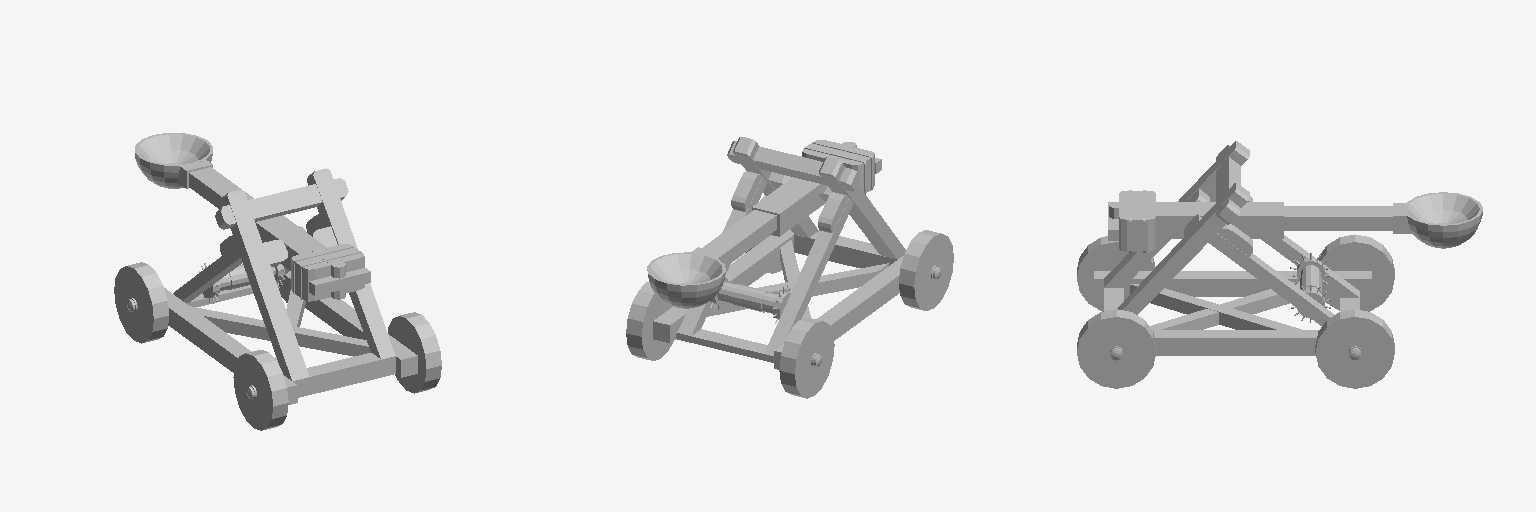
Rendered from Catapuly.obj.
3 renders of one model, left to right at view 1: azimuth 30°, elevation 25°; view 2: azimuth 150°, elevation 25°; view 3: azimuth 270°, elevation 25°, orthographic.
Visible parts, largest first — view 1: CatapultStandLeftFront, WheelLeftBack, WheelLeftFront, CatapultStandRightFront, CatapultHeadHolder, CatapultHead, CatapultBaseLeft, WheelRightFront, CatapultBottom1, CatapultBaseFront, CatapultBaseRight, CatapultBlock (+6 smaller); view 2: CatapultHeadHolder, CatapultHead, WheelLeftFront, WheelLeftBack, CatapultStandLeftBack, CatapultBaseLeft, CatapultBaseRight, CatapultStandLeftFront, WheelRightBack, CatapultBlock, CatapultBottom2, CatapultBaseFront (+8 smaller); view 3: CatapultHeadHolder, WheelRightBack, WheelRightFront, CatapultBaseRight, CatapultBaseLeft, CatapultHead, CatapultStandRightFront, WheelLeftBack, CatapultStandRightBack, CatapultStandLeftFront, CatapultBottom2, WheelLeftFront (+6 smaller).
Part boxes in pixels (x1,y1,x2,y2): CatapultStandLeftFront: (221,189,309,380); WheelLeftBack: (114,262,168,343); WheelLeftFront: (233,350,288,430); CatapultStandRightFront: (307,168,395,359); CatapultHeadHolder: (177,160,326,270); CatapultHead: (135,133,212,188); CatapultBaseLeft: (164,288,297,404); WheelRightFront: (388,312,441,393); CatapultBottom1: (190,306,370,356); CatapultBaseFront: (293,353,395,397); CatapultBaseRight: (278,271,417,377); CatapultBlock: (215,178,348,229); CatapultHeadHolder: (692,177,825,266); CatapultHead: (647,252,725,308); WheelLeftFront: (899,230,953,310); WheelLeftBack: (779,317,834,398); CatapultStandLeftBack: (764,198,853,355); CatapultBaseLeft: (774,256,903,369); CatapultBaseRight: (653,229,793,342); CatapultStandLeftFront: (819,157,905,259); WheelRightBack: (626,282,673,360); CatapultBlock: (727,141,860,191); CatapultBottom2: (707,263,888,316); CatapultBaseFront: (794,231,896,267); CatapultHeadHolder: (1156,202,1412,238); WheelRightBack: (1315,309,1394,388); WheelRightFront: (1077,309,1155,388); CatapultBaseRight: (1153,330,1318,355); CatapultBaseLeft: (1094,271,1371,296); CatapultHead: (1404,192,1482,248); CatapultStandRightFront: (1117,182,1249,314); WheelLeftBack: (1319,234,1394,311); CatapultStandRightBack: (1208,233,1334,325); CatapultStandLeftFront: (1104,141,1249,287); CatapultBottom2: (1130,284,1301,329); WheelLeftFront: (1077,236,1154,311).
Bounding box in the file's own units: 49.25 × 48.21 × 96.8.